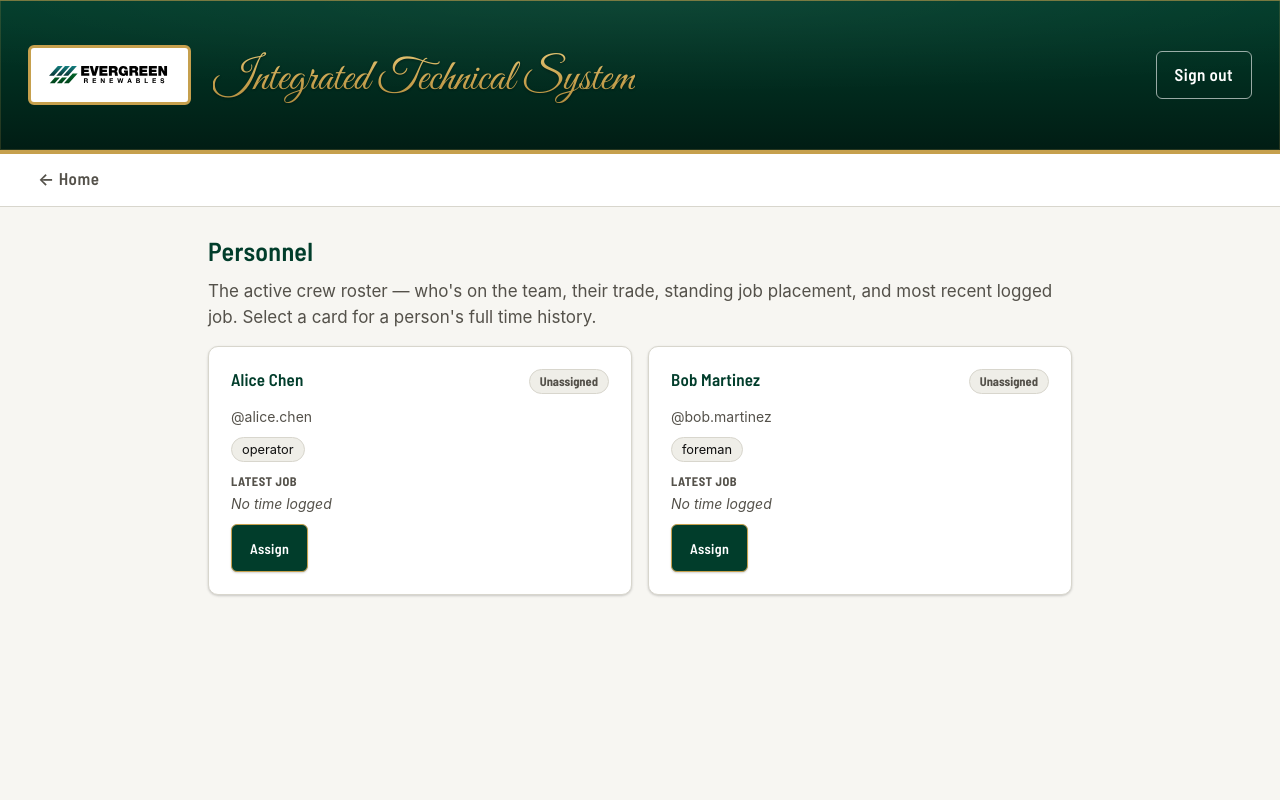
Scenario: FieldOpsPersonnel — P2.6 manager tier (cap.crew.assign) › manager (cap.crew.assign, role manager): the Assign button renders, opens a job <select>, and the admin-only login sub-form is NOT rendered
Click the 1st button "Assign". click: {"x": 270, "y": 548}
box: [231,524,308,572]
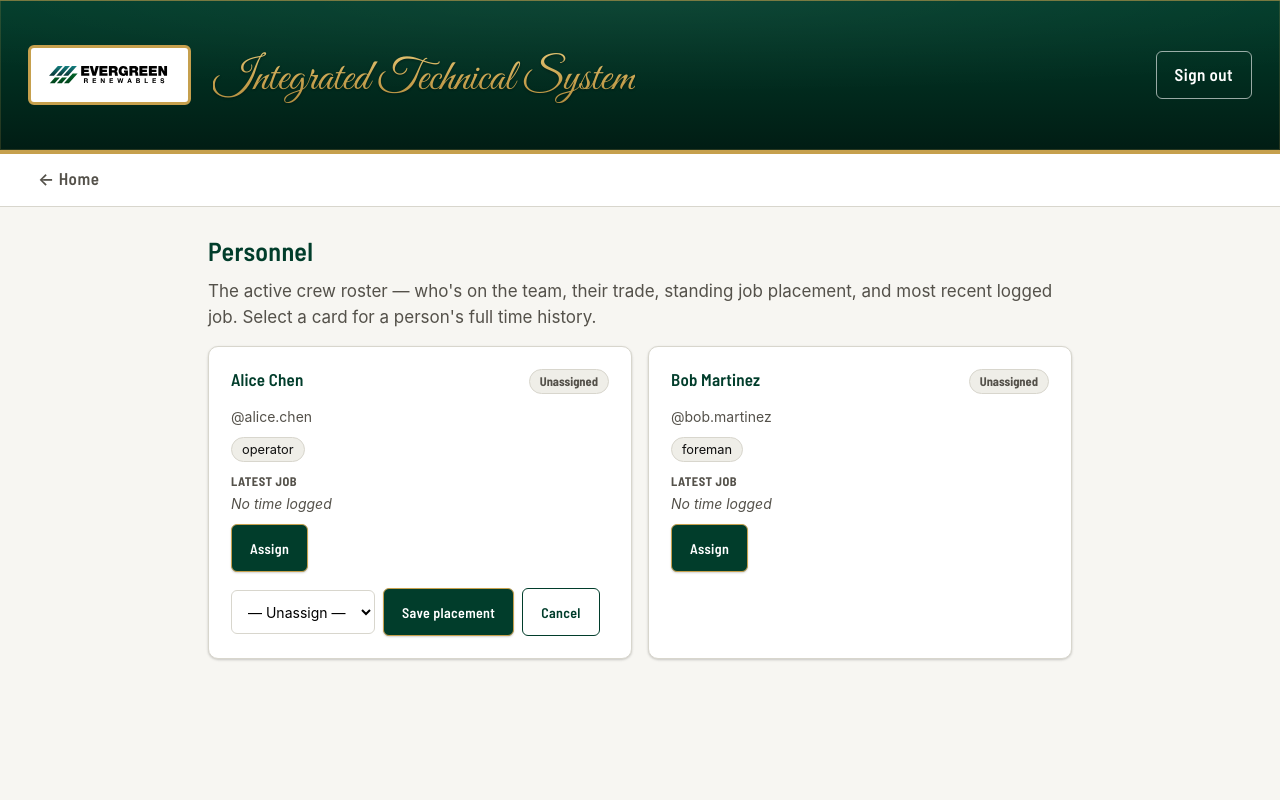
Now the form named "Assign crew to job" is shown, box [231,588,609,636]
Now the dropdown named "Job placement" is shown, box [231,590,375,634]
